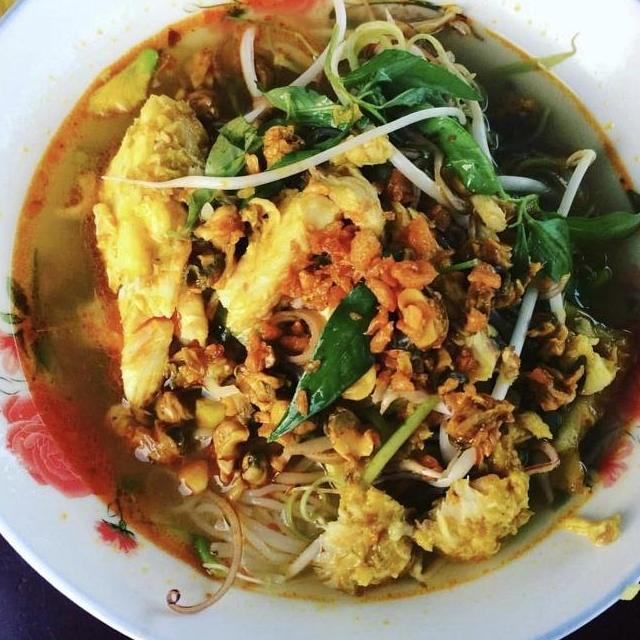bun: (173, 450, 355, 593)
bun ca: (0, 39, 636, 638)
ca: (71, 80, 216, 426), (210, 162, 388, 371)
rau ram: (247, 40, 507, 198), (262, 275, 399, 448), (173, 105, 297, 244), (495, 184, 640, 290)
